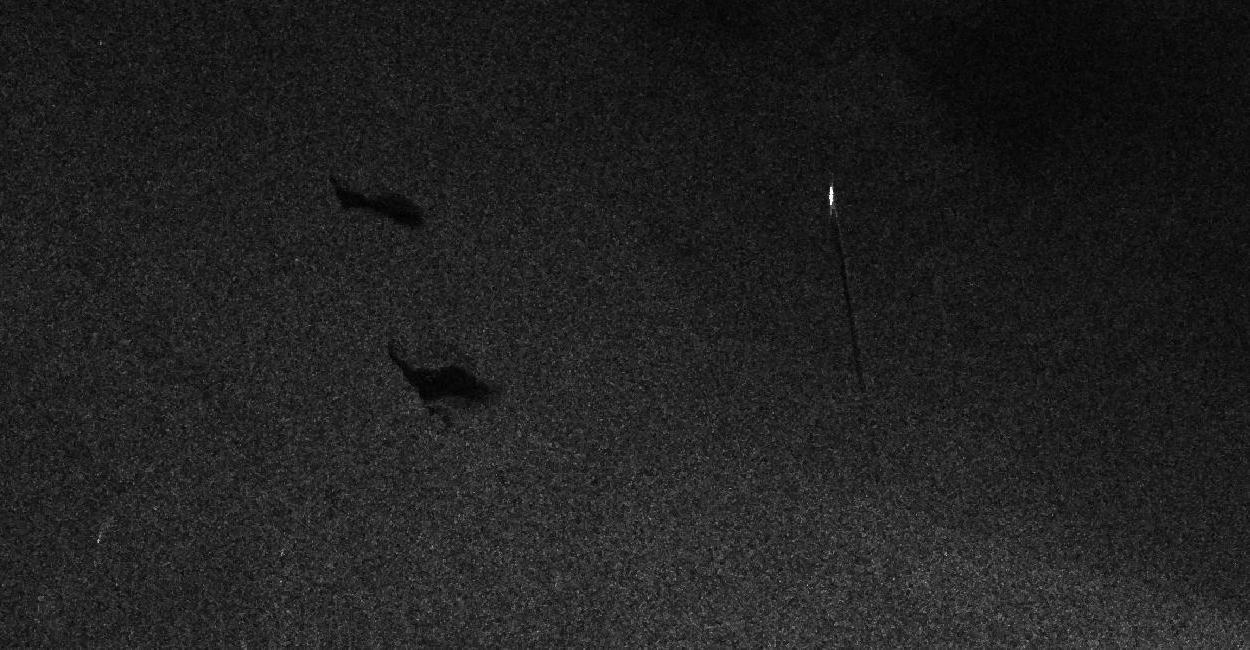Oil Spill: (384, 340, 500, 426), (326, 170, 428, 234), (828, 220, 864, 389), (830, 212, 834, 217)
